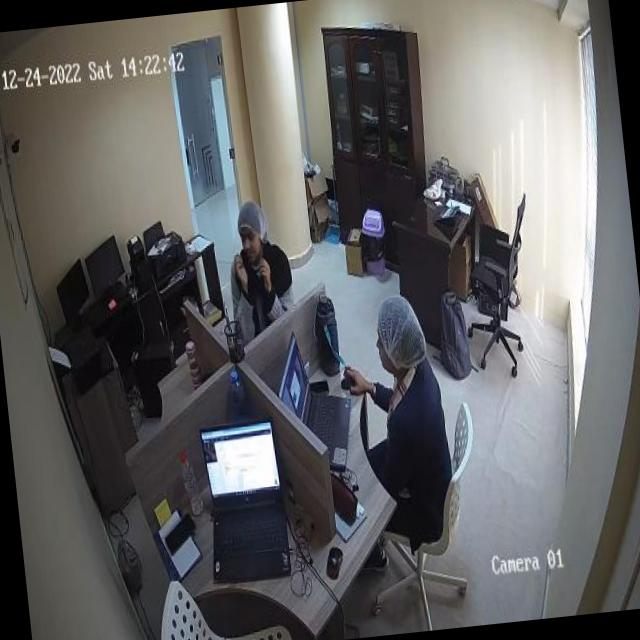hairnet: (374, 296, 426, 369), (236, 200, 270, 239)
